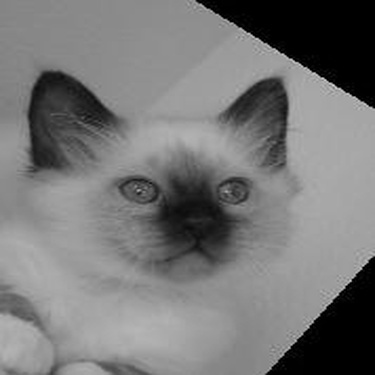cat: (1, 79, 292, 370)
